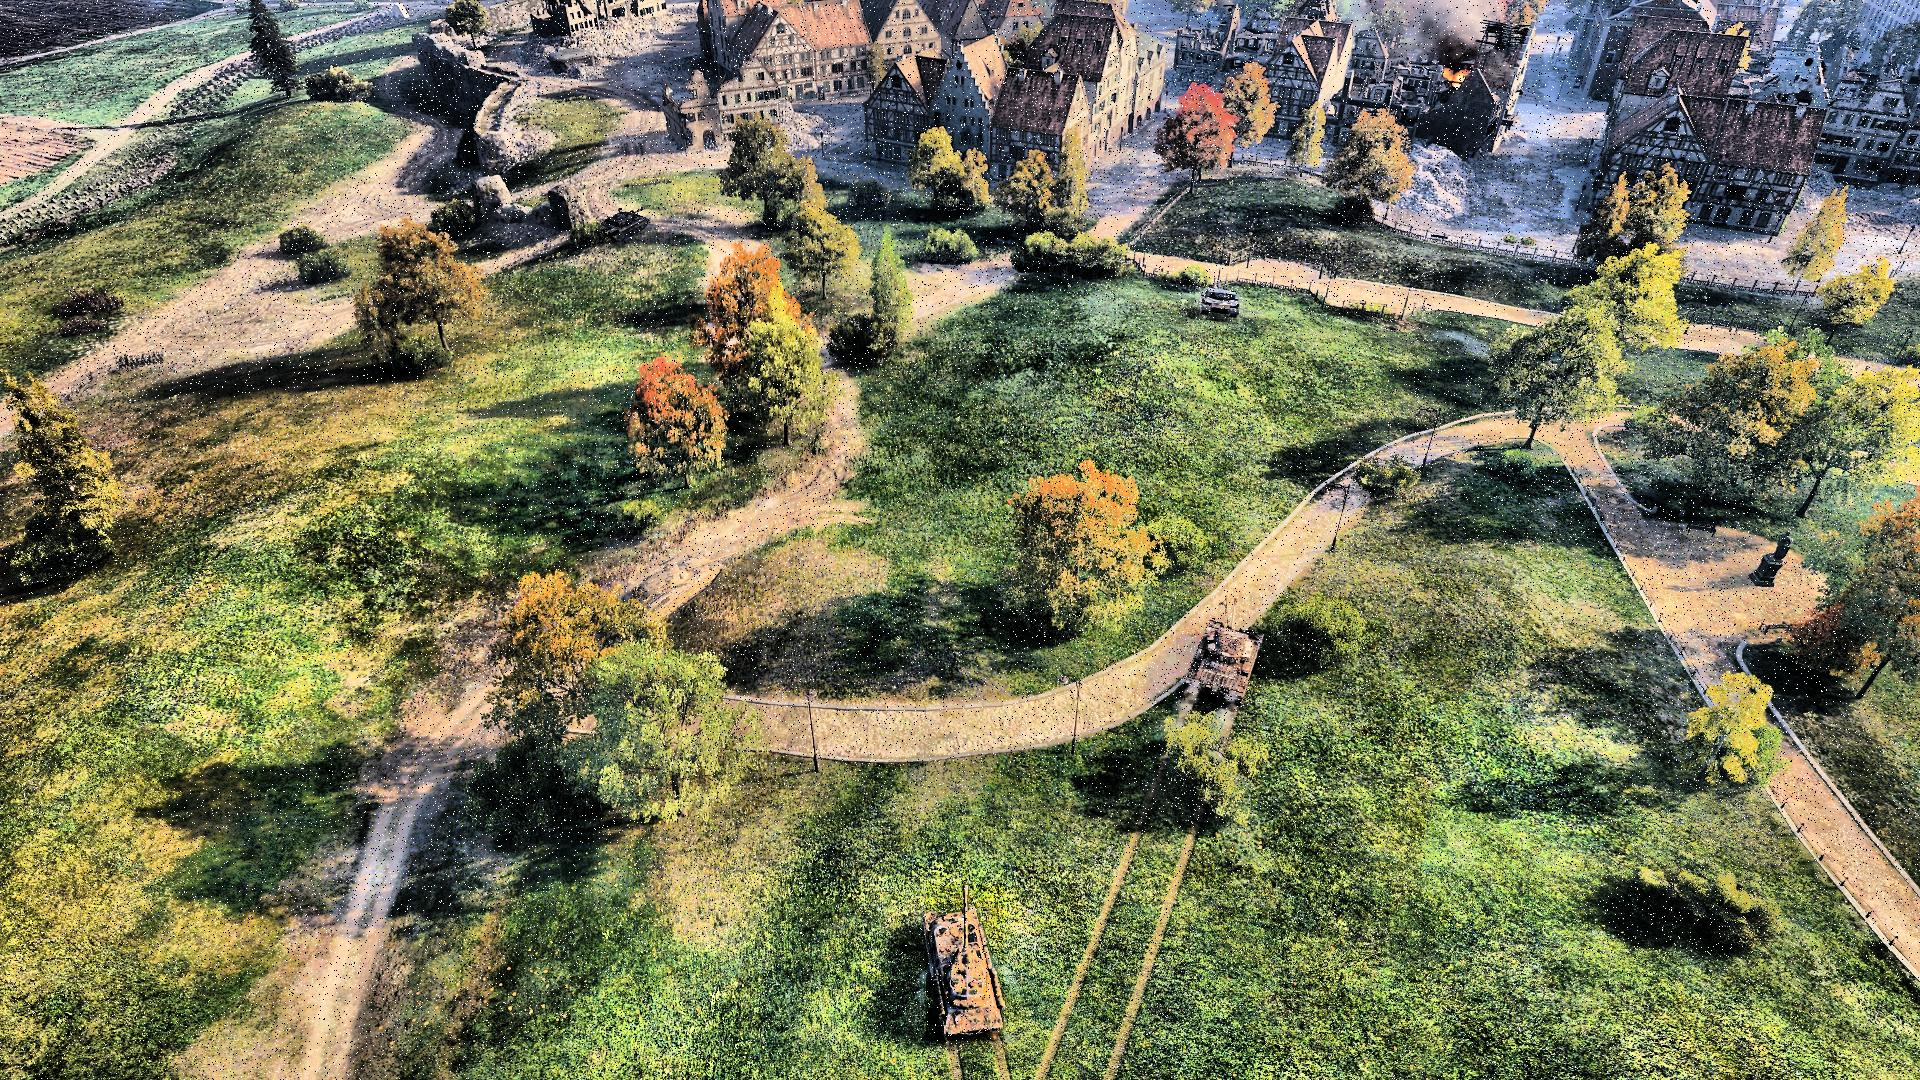military-vehicle: (927, 885, 1005, 1042), (1176, 595, 1262, 699), (1195, 286, 1244, 320)
